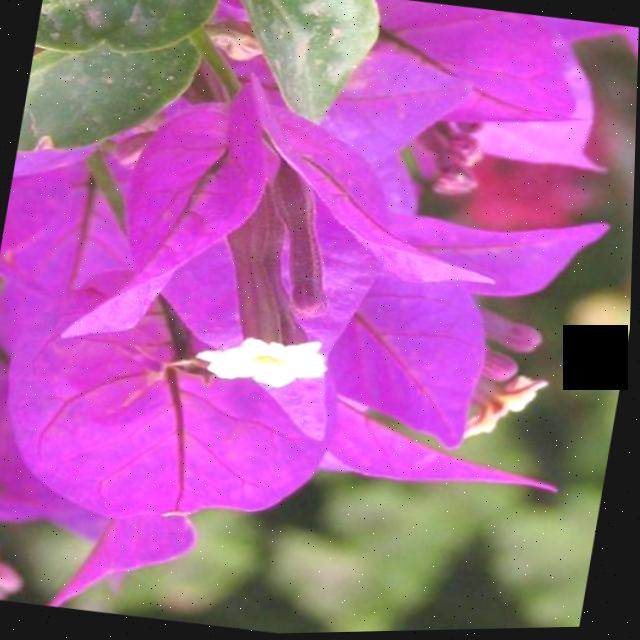bougainvillea: (106, 0, 640, 559), (0, 128, 399, 617)
